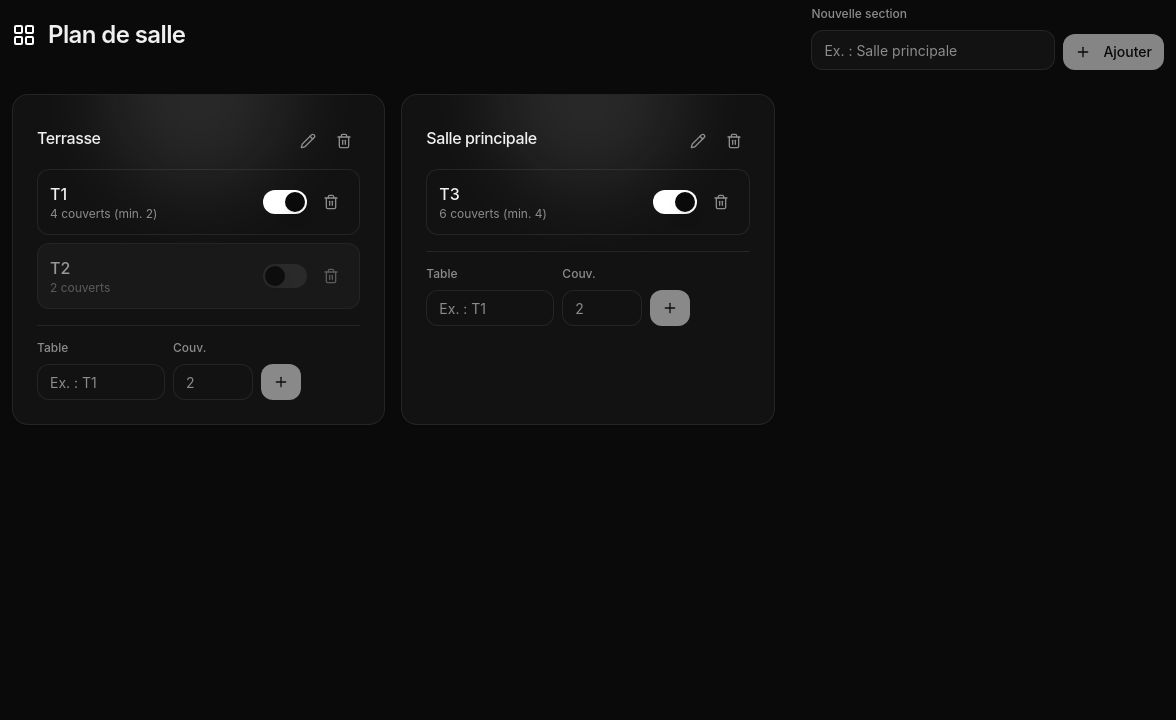
Test: FloorPlanCrud › affiche une erreur si le renommage de section échoue
Expected: the heading "Plan de salle" is shown, top-left (48, 19), bottom-right (185, 51)
Click the button named "Renommer la section" in the row of "Terrasse" at (308, 141), box top-left (292, 125), bottom-right (324, 157)
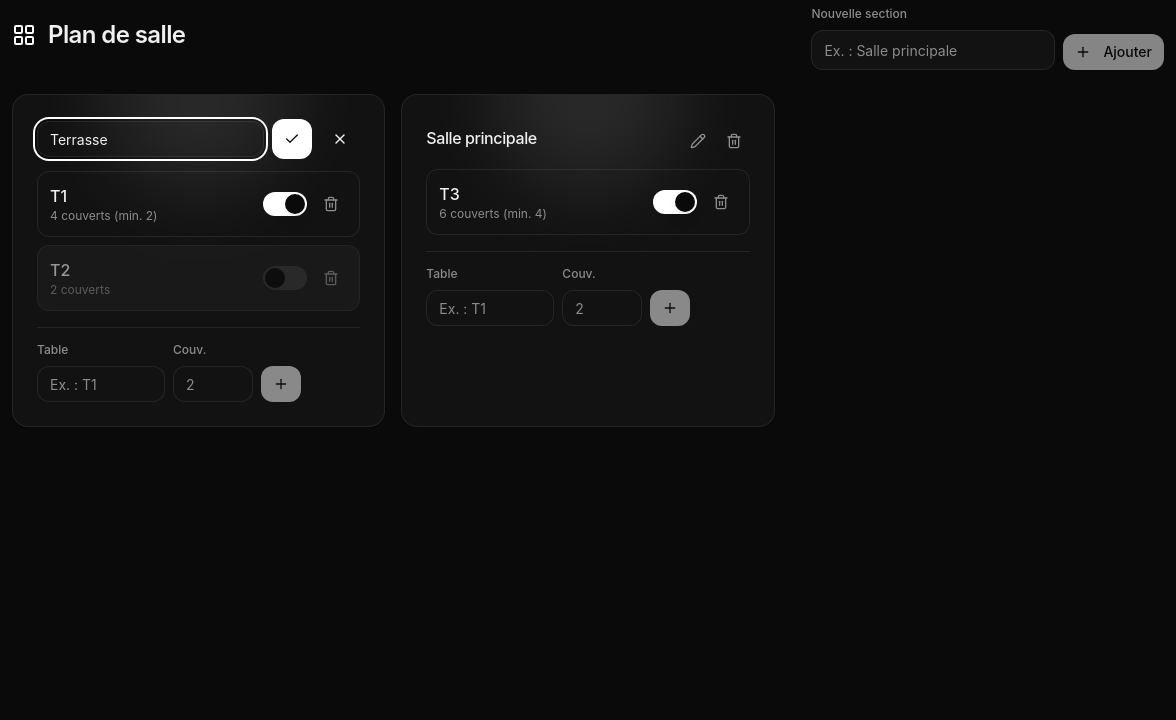
Replace the text in the field named "Nom de la section" with "Terrasse extérieure" at (151, 139), box top-left (37, 121), bottom-right (264, 157)
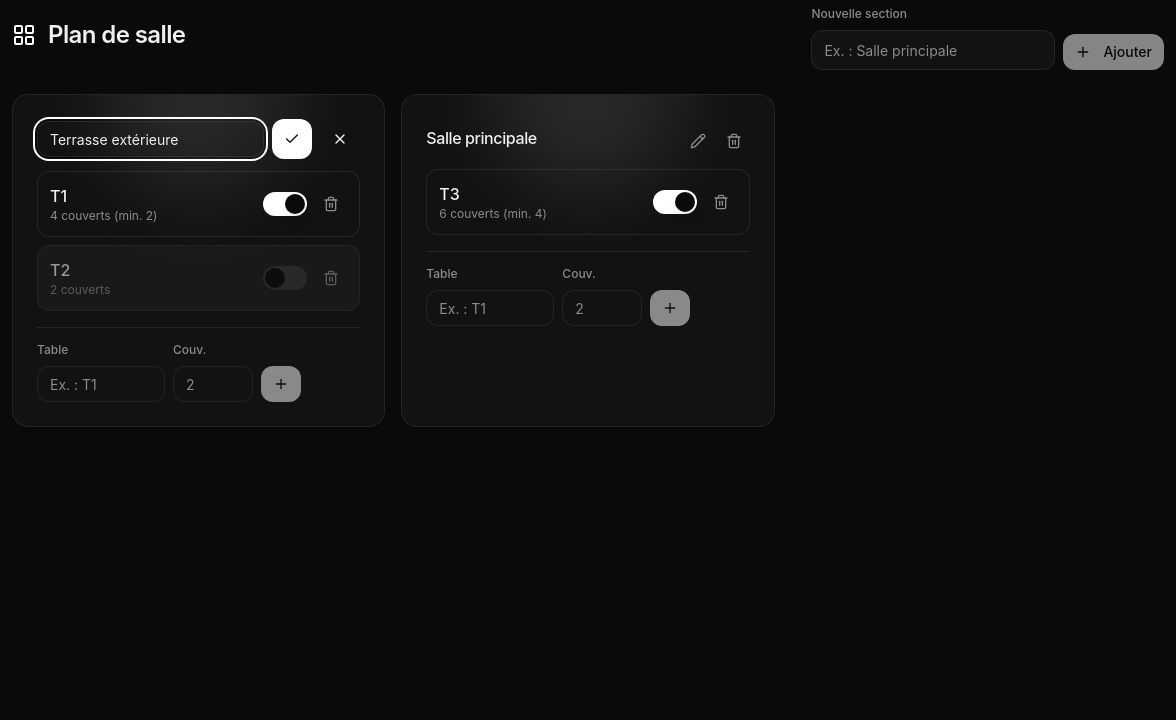
Submit the form named "Nom de la section", box top-left (37, 119), bottom-right (360, 159)
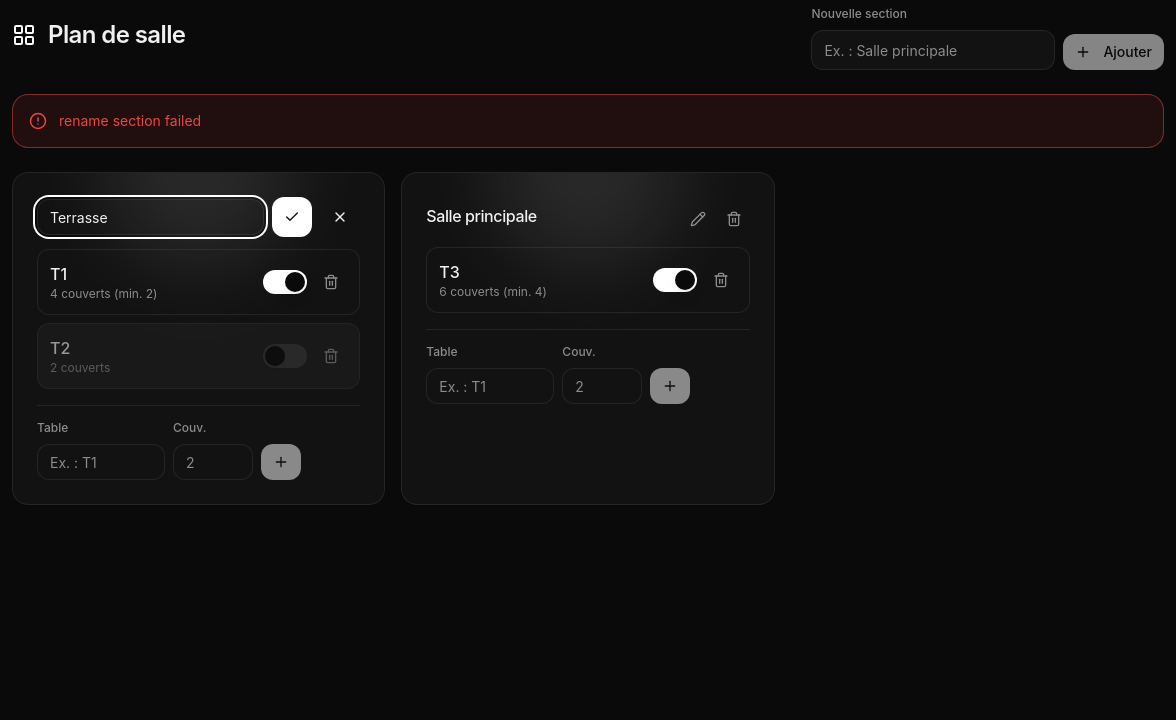
Expected: the field showing "Terrasse extérieure" is not shown
Expected: the field showing "Terrasse" is shown, top-left (37, 199), bottom-right (264, 235)
Expected: the text "rename section failed" is shown, top-left (12, 94), bottom-right (1164, 148)
